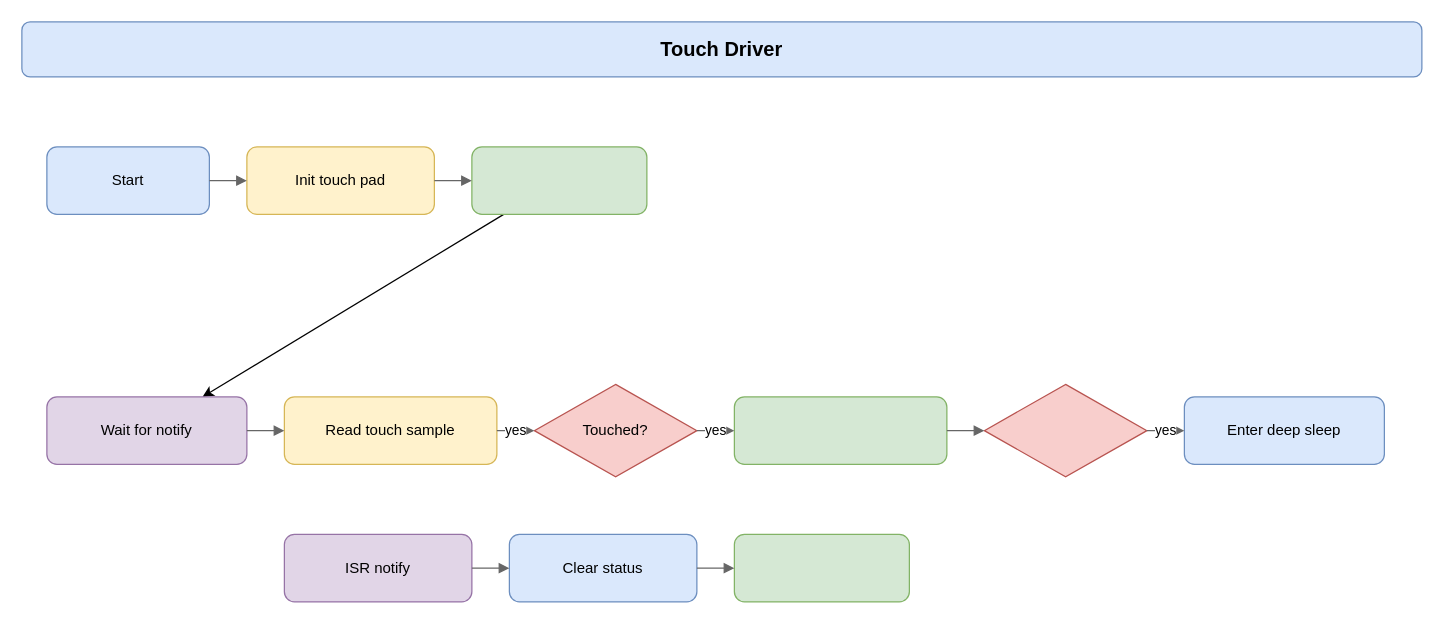
Some shapes in this 1444 by 624 pixel diagram are drawn without their labels. The shapes that lost their labels are listed below. From the top down, each one's centre as x and y in pixels, then its label:
At (559,180): "Start task".
At (840,430): "Update activity time".
At (1065,430): "Timeout?".
At (821,567): "Wake task".
